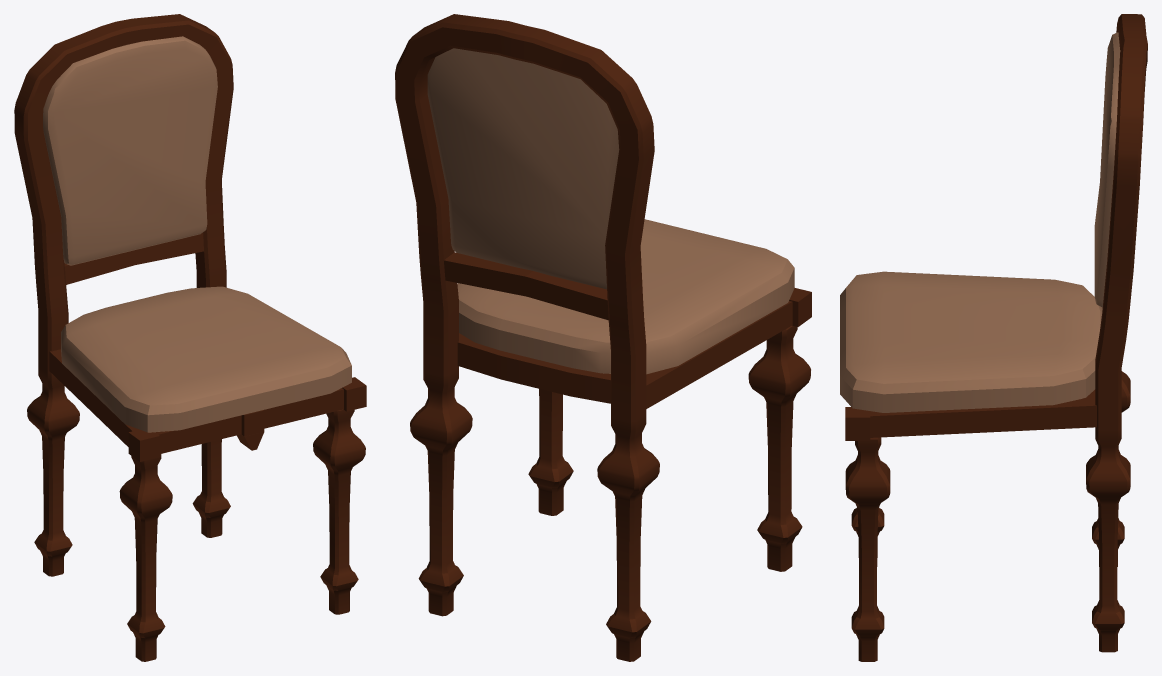
File: Стул.fbx
3 renders of one model, left to right at view 1: azimuth 30°, elevation 25°; view 2: azimuth 150°, elevation 25°; view 3: azimuth 270°, elevation 25°, orthographic. The views are drawn at different scales.
Visible parts, largest first — view 1: Cube.005; view 2: Cube.005; view 3: Cube.005.
Part boxes in pixels (left/top/right/bottom): Cube.005: left=14, top=14, right=366, bottom=661; Cube.005: left=395, top=14, right=811, bottom=661; Cube.005: left=840, top=14, right=1147, bottom=661.
Bounding box in the file's own units: 96.27 × 209 × 103.
